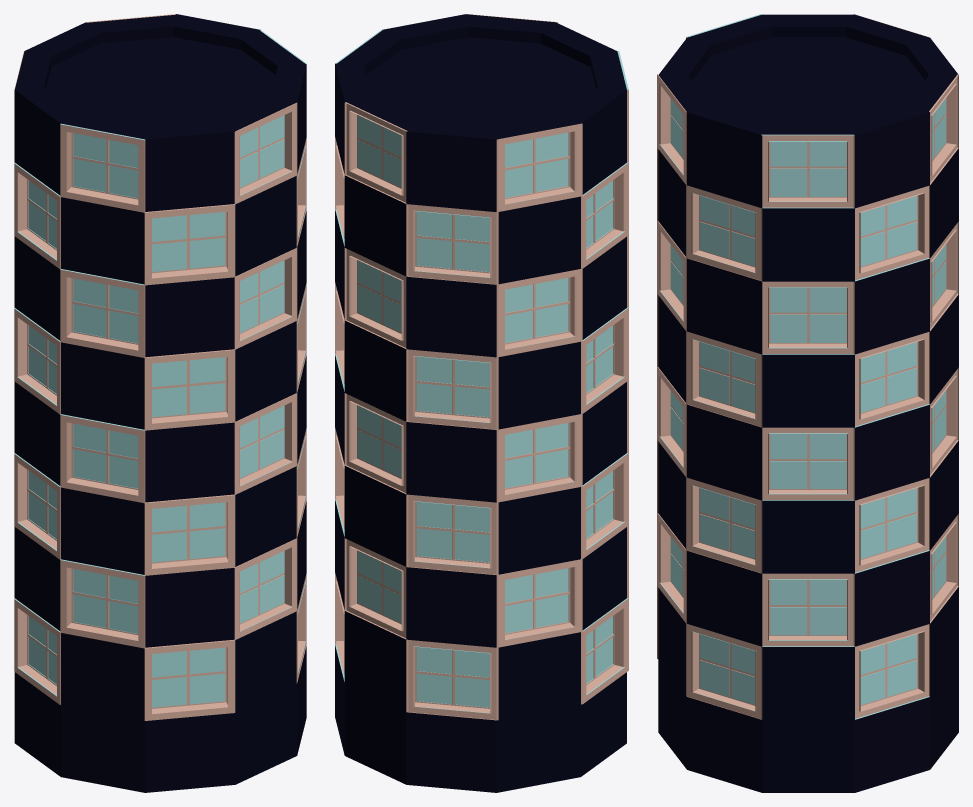
The model's file is Circle Black.fbx.
3 renders of one model, left to right at view 1: azimuth 30°, elevation 25°; view 2: azimuth 150°, elevation 25°; view 3: azimuth 270°, elevation 25°, orthographic.
Parts seen in each view (by area): view 1: Cylinder.004; view 2: Cylinder.004; view 3: Cylinder.004.
Boxes of the visible parts, x1=… form: Cylinder.004: x1=14, y1=14, x2=306, y2=792; Cylinder.004: x1=335, y1=14, x2=628, y2=792; Cylinder.004: x1=657, y1=14, x2=958, y2=792.
Size of the model in its own units: 1689 by 4266 by 1774.
